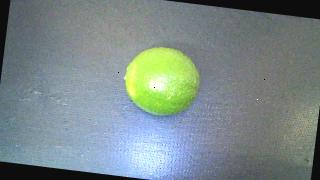EXPORTACION: (120, 43, 203, 119)
